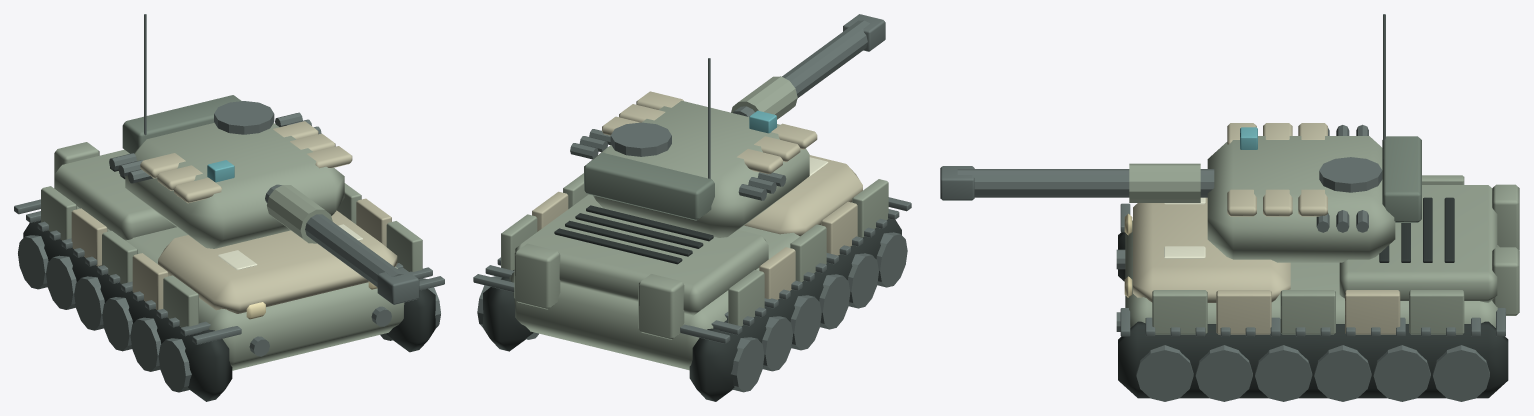
Rendered from tank.glb.
The picture shows the model from 3 angles, left to right: view 1: azimuth 30°, elevation 25°; view 2: azimuth 150°, elevation 25°; view 3: azimuth 270°, elevation 25°; orthographic projection. The views are drawn at different scales.
Visible parts, largest first — view 1: Chassis, TurretArmor; view 2: Chassis, TurretArmor; view 3: Chassis, TurretArmor.
Part boxes in pixels (left/top/right/bottom): Chassis: left=14, top=142, right=444, bottom=401; TurretArmor: left=109, top=14, right=419, bottom=304; Chassis: left=473, top=155, right=911, bottom=401; TurretArmor: left=570, top=14, right=885, bottom=237; Chassis: left=1116, top=175, right=1519, bottom=401; TurretArmor: left=940, top=14, right=1421, bottom=262.
Size of the model in its own units: 3.14 by 3.38 by 5.87.
